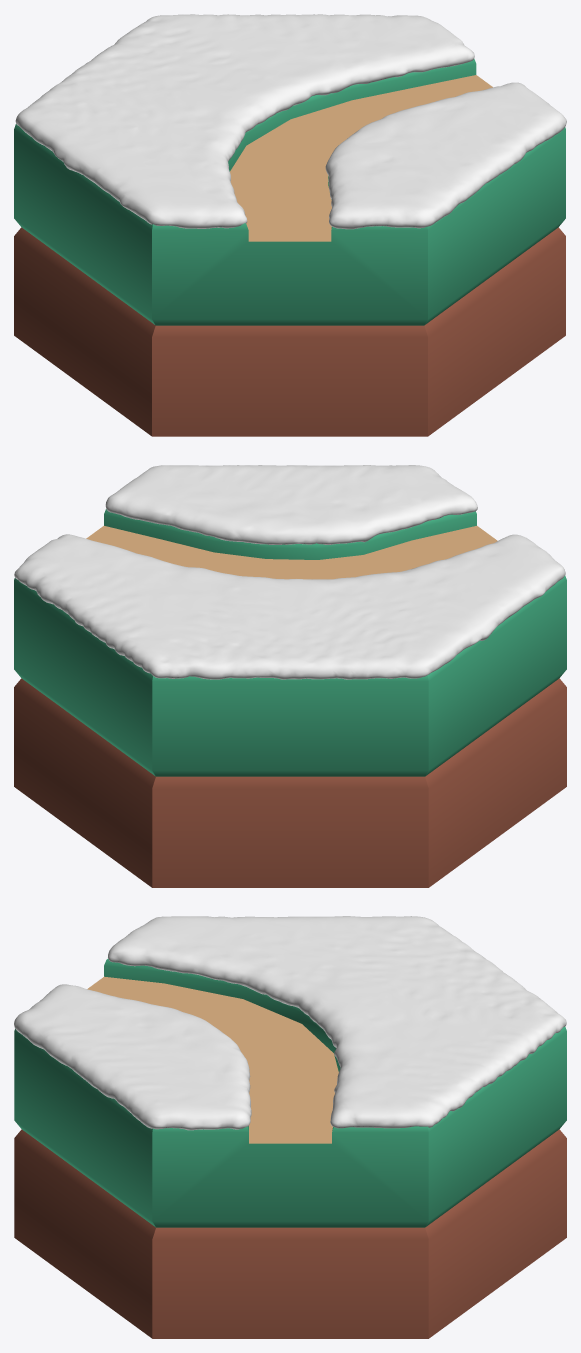
The model's file is snow_hex_forest_roadD_detail.fbx.
3 renders of one model, top to bottom at view 1: azimuth 30°, elevation 25°; view 2: azimuth 150°, elevation 25°; view 3: azimuth 270°, elevation 25°, orthographic.
Visible parts, largest first — view 1: SnowBall.001, hex_forest_roadD_detail.002, hex_forest_roadD_detail.001, hex_forest_roadD_detail; view 2: SnowBall.001, hex_forest_roadD_detail.002, hex_forest_roadD_detail.001, hex_forest_roadD_detail; view 3: SnowBall.001, hex_forest_roadD_detail.002, hex_forest_roadD_detail.001, hex_forest_roadD_detail.
Part boxes in pixels (box(x1,y1,x2,y2)): SnowBall.001: box(15, 14, 566, 229); hex_forest_roadD_detail.002: box(14, 227, 565, 436); hex_forest_roadD_detail.001: box(14, 59, 565, 325); hex_forest_roadD_detail: box(230, 75, 492, 241); SnowBall.001: box(14, 465, 565, 679); hex_forest_roadD_detail.002: box(14, 678, 566, 887); hex_forest_roadD_detail.001: box(14, 509, 566, 776); hex_forest_roadD_detail: box(86, 526, 497, 579); SnowBall.001: box(14, 916, 566, 1130); hex_forest_roadD_detail.002: box(14, 1129, 566, 1338); hex_forest_roadD_detail.001: box(14, 959, 566, 1227); hex_forest_roadD_detail: box(87, 976, 338, 1143).
Bounding box in the file's own units: 204 × 104 × 231.
